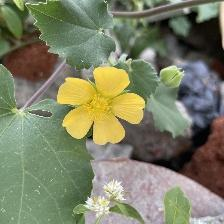indian mallow: (58, 66, 148, 147)
